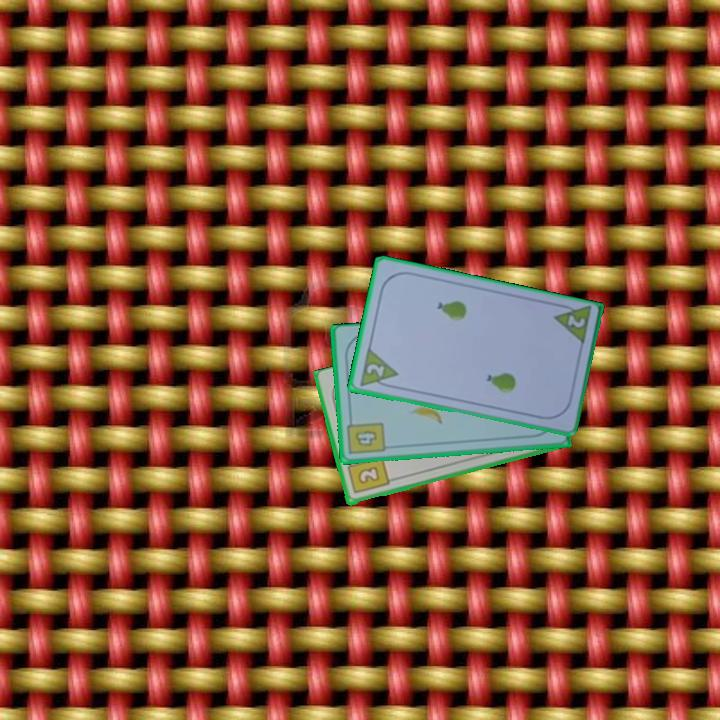2b: (344, 454, 392, 497)
2p: (356, 345, 400, 392), (563, 311, 588, 331)
4b: (344, 415, 388, 457)
